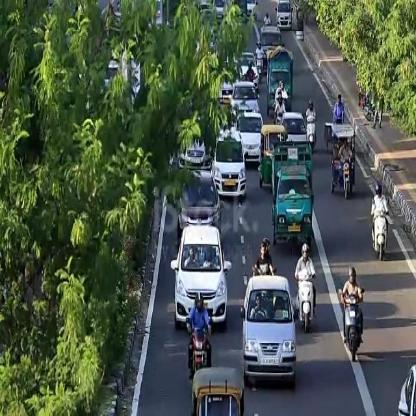auto-rikshaw: (294, 271, 315, 333)
bike: (329, 123, 355, 199), (338, 284, 364, 360), (370, 206, 388, 260)
car: (238, 272, 298, 390), (170, 220, 232, 332), (210, 125, 249, 203)
truck: (269, 162, 315, 250), (268, 58, 295, 112)
